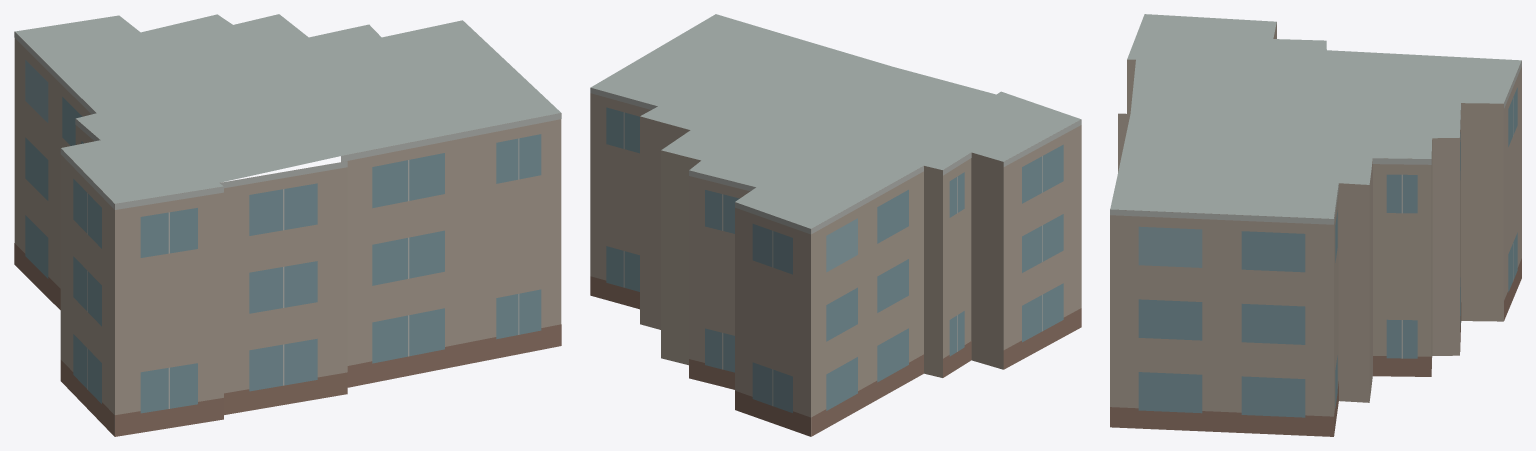
Rendered from survey-upis-32870307.glb.
The picture shows the model from 3 angles, left to right: view 1: azimuth 30°, elevation 25°; view 2: azimuth 150°, elevation 25°; view 3: azimuth 270°, elevation 25°; orthographic projection. The views are drawn at different scales.
Parts seen in each view (by area): view 1: survey-upis-32870307.tmp; view 2: survey-upis-32870307.tmp; view 3: survey-upis-32870307.tmp.
Part boxes in pixels (box(x1,y1,x2,y2)): survey-upis-32870307.tmp: box(14, 14, 561, 436); survey-upis-32870307.tmp: box(590, 14, 1081, 436); survey-upis-32870307.tmp: box(1110, 14, 1521, 436).
Bounding box in the file's own units: 18.47 × 9.15 × 15.68.
